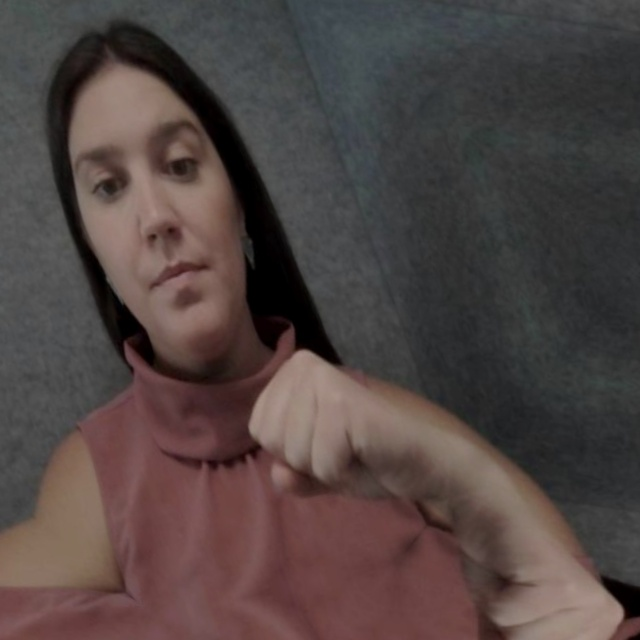Rock: (0, 424, 274, 640), (0, 553, 236, 640)
